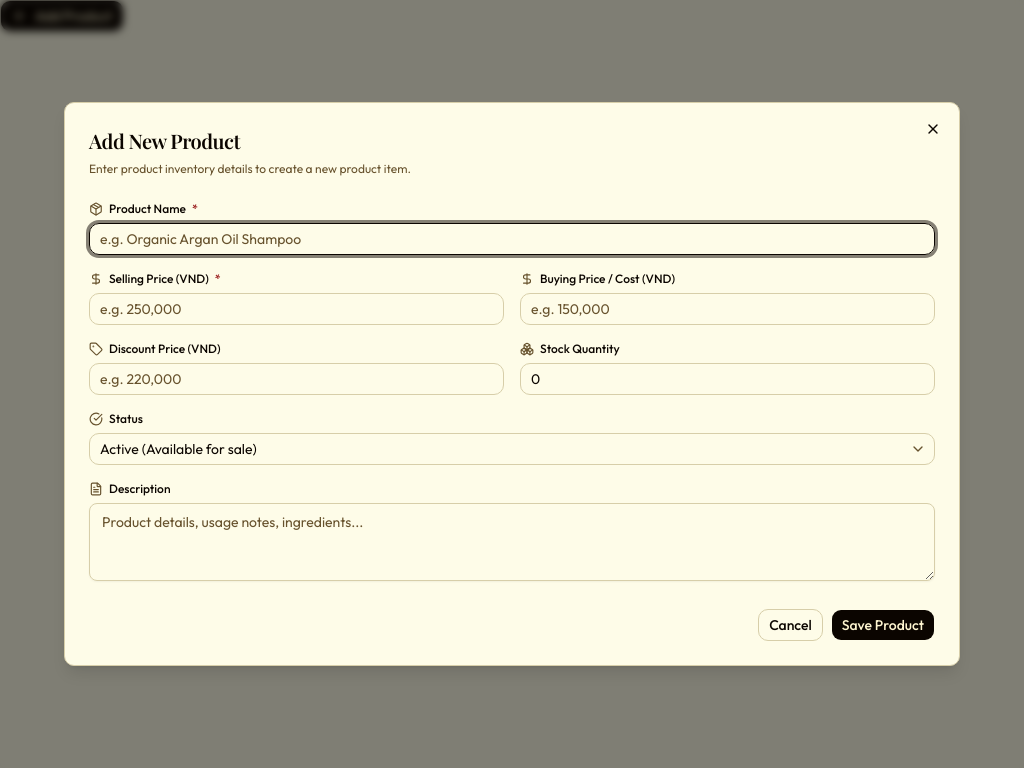
Test: ProductFormDialog - Create Mode › validates required fields (name and price) and displays errors
Step 1. Click the button "Save Product" → [883, 625], box [831, 609, 935, 641]
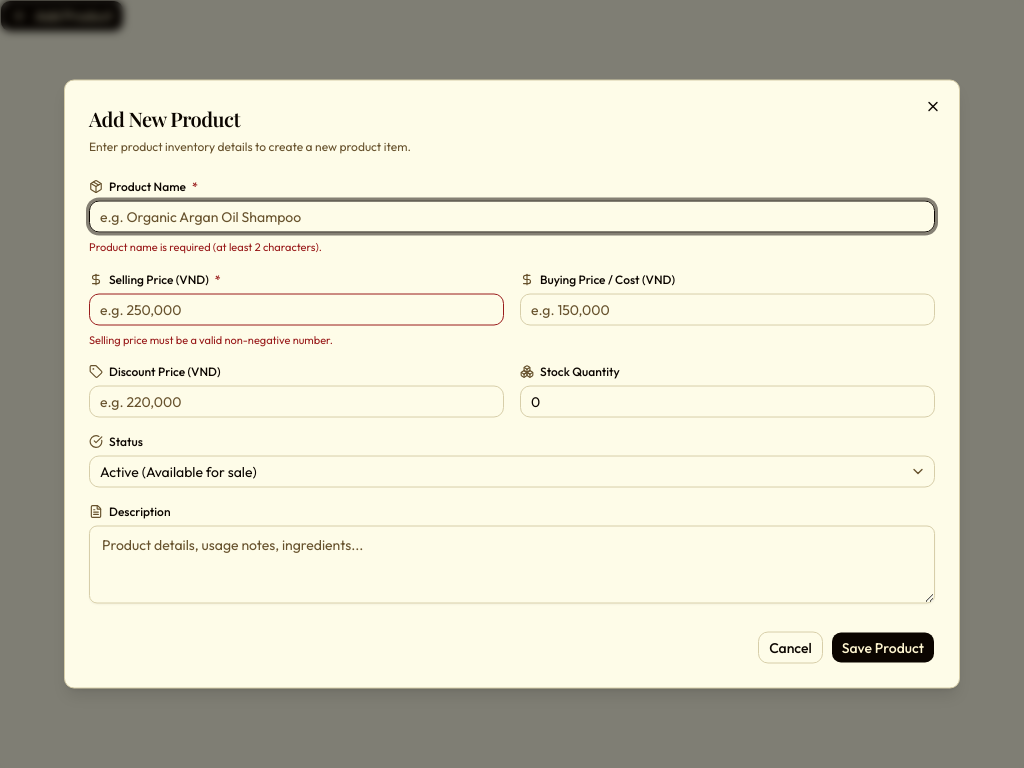
expect the text "Product name is required (at least 2 characters)." is shown: met, box [89, 240, 322, 254]
expect the text "Selling price must be a valid non-negative number." is shown: met, box [89, 332, 333, 346]
